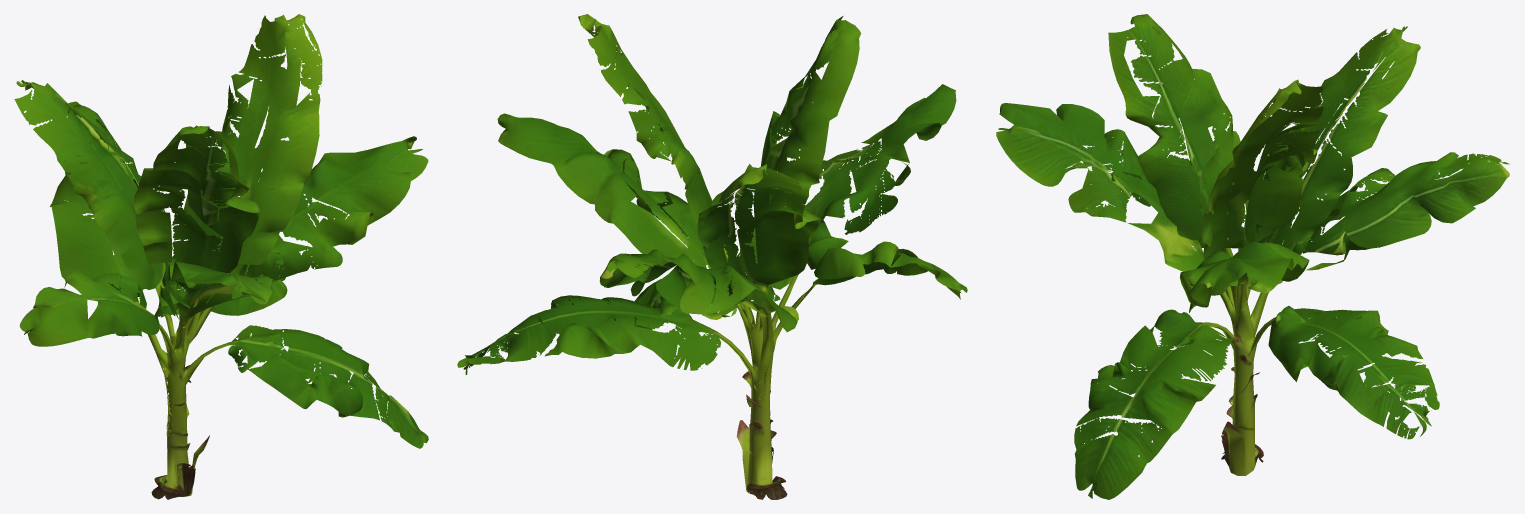
The model's file is bananaplant_1.lite.glb.
3 views of the same model, side by side, from view 1: azimuth 30°, elevation 25°; view 2: azimuth 150°, elevation 25°; view 3: azimuth 270°, elevation 25° (orthographic). The views are drawn at different scales.
Parts seen in each view (by area): view 1: model; view 2: model; view 3: model.
Part boxes in pixels (<box>): model: <box>14,14,428,499</box>; model: <box>457,14,967,499</box>; model: <box>996,14,1509,499</box>.
Bounding box in the file's own units: 0.9927 × 0.98 × 0.9995.
2 materials, 2 textured.
